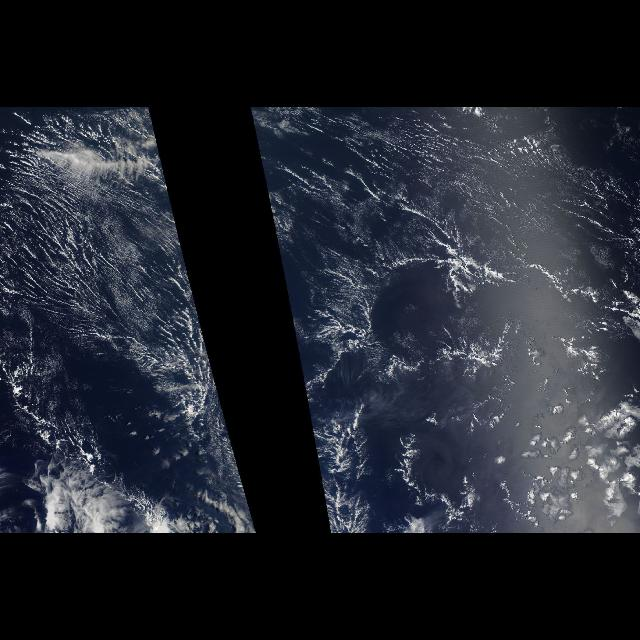Flower: (495, 385, 639, 533)
Sugar: (250, 112, 640, 390), (2, 110, 224, 428)
